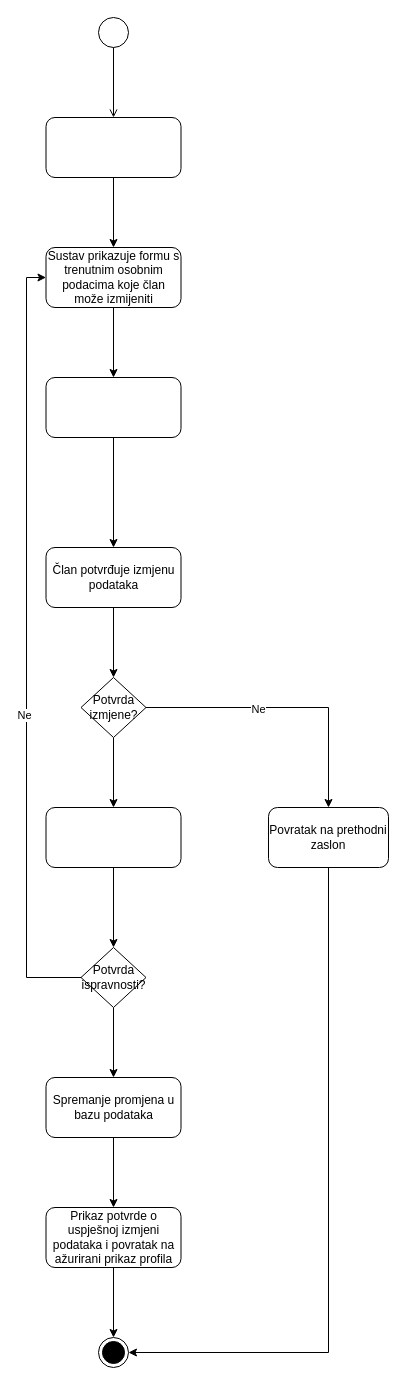
Some shapes in this 406 by 1385 pixel diagram are drawn without their labels. Each missing label, with the centre of its shape:
Provjera ispravnosti unesenih podataka: point 113,837
Član odabire opciju izmjena podataka: point 113,147
Član unosi ili mijenja željene informacije u formi: point 113,407
